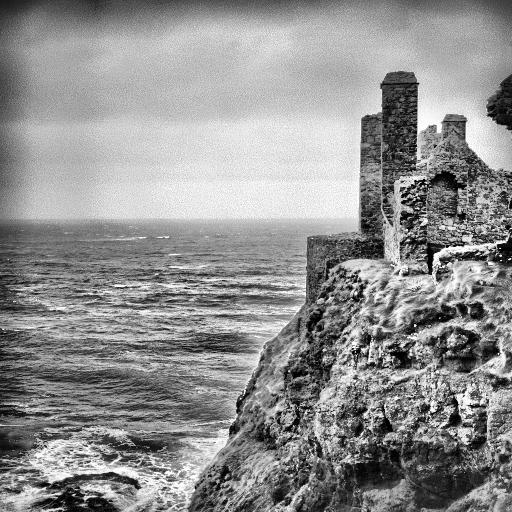person: (250, 42, 512, 309), (306, 71, 512, 307)
